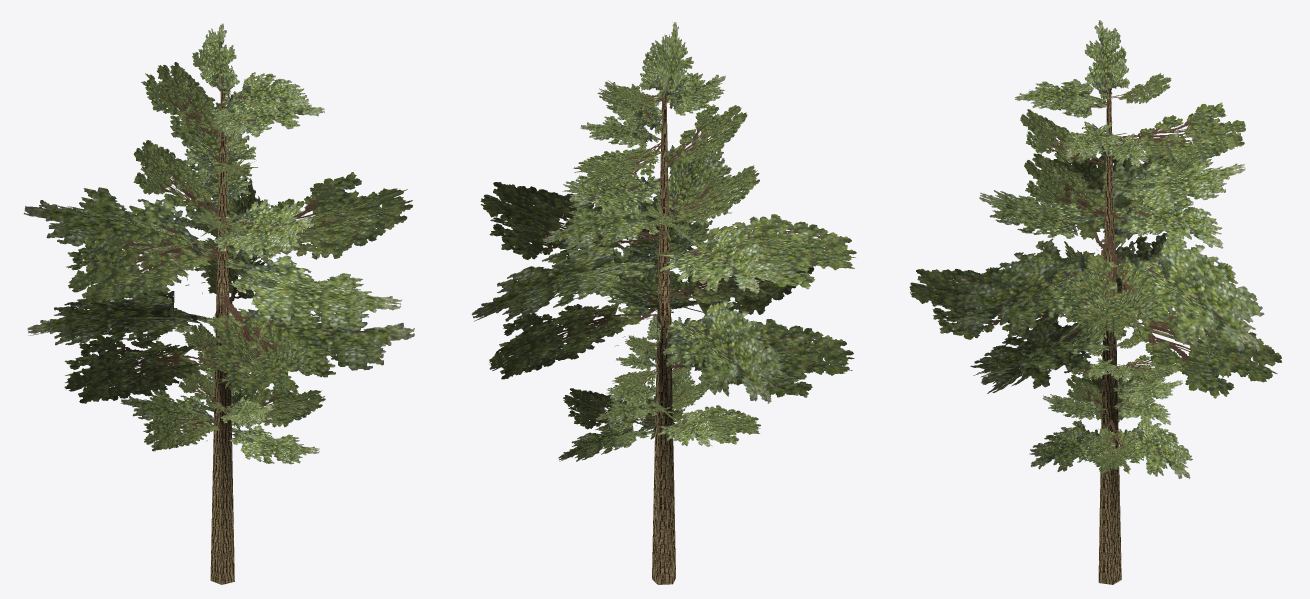
File: Oak Trees.fbx
3 renders of one model, left to right at view 1: azimuth 30°, elevation 25°; view 2: azimuth 150°, elevation 25°; view 3: azimuth 270°, elevation 25°, orthographic.
Parts seen in each view (by area): view 1: Oak Tree 1, Oak Tree 2; view 2: Oak Tree 1, Oak Tree 2; view 3: Oak Tree 1, Oak Tree 2.
Boxes of the visible parts, x1,y1,x2,y2 form: Oak Tree 1: (24, 23, 414, 584); Oak Tree 2: (120, 312, 325, 464); Oak Tree 1: (471, 22, 856, 584); Oak Tree 2: (558, 313, 760, 461); Oak Tree 1: (909, 20, 1281, 584); Oak Tree 2: (1029, 322, 1192, 478).
Size of the model in its own units: 6.01 by 8.92 by 5.77.
2 materials, 2 textured.
